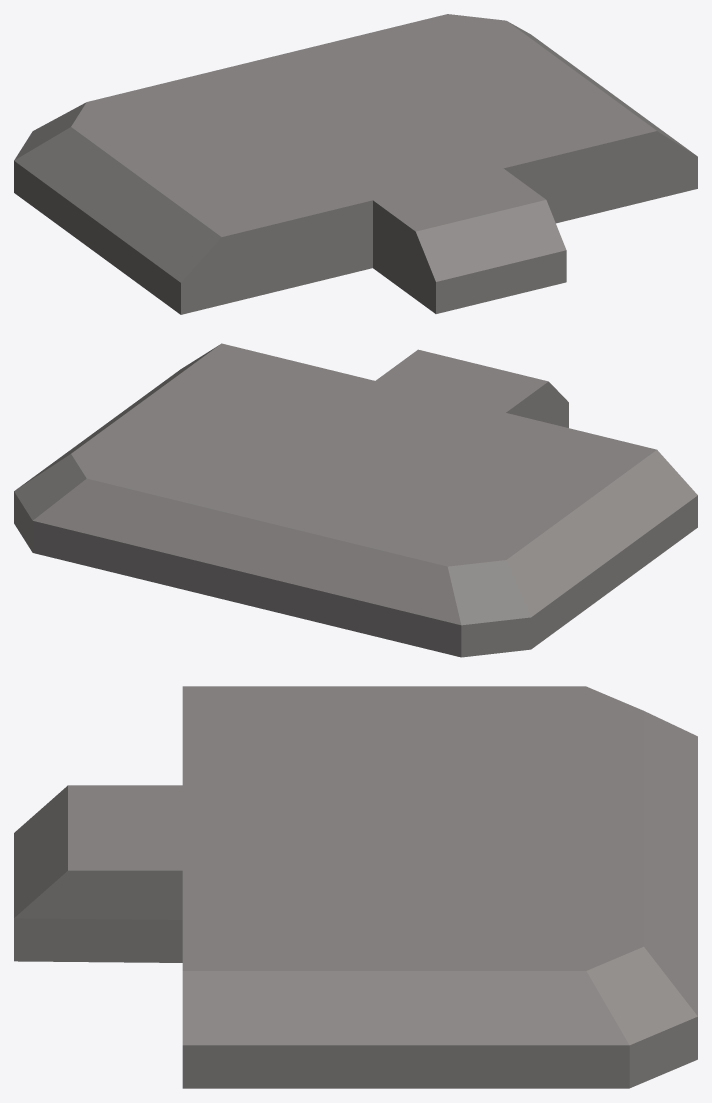
File: SM_Prop_ChillyBin_01_Lid.fbx
3 views of the same model, one above another, from view 1: azimuth 30°, elevation 25°; view 2: azimuth 150°, elevation 25°; view 3: azimuth 270°, elevation 25° (orthographic). The views are drawn at different scales.
Parts seen in each view (by area): view 1: SM_Prop_ChillyBin_01_Lid; view 2: SM_Prop_ChillyBin_01_Lid; view 3: SM_Prop_ChillyBin_01_Lid.
Boxes of the visible parts, x1,y1,x2,y2 form: SM_Prop_ChillyBin_01_Lid: [14, 14, 697, 314]; SM_Prop_ChillyBin_01_Lid: [14, 343, 697, 657]; SM_Prop_ChillyBin_01_Lid: [14, 686, 697, 1088].
Size of the model in its own units: 55.85 by 7 by 47.77.
